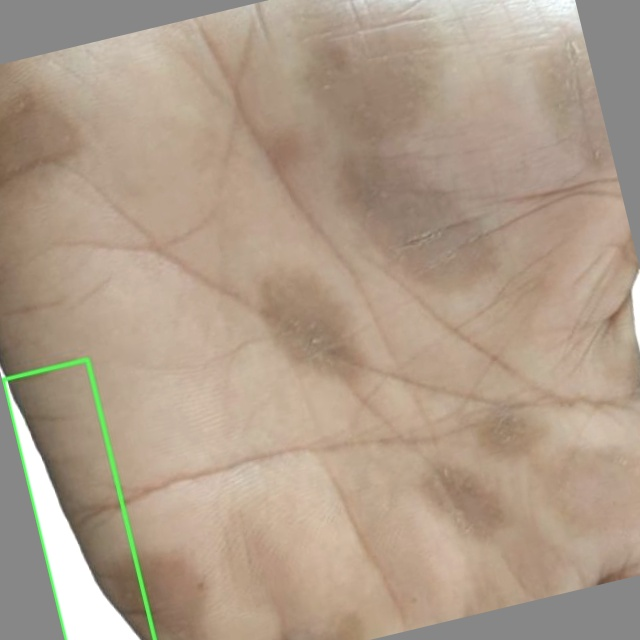Contact Dermatitis: (2, 359, 154, 639)
